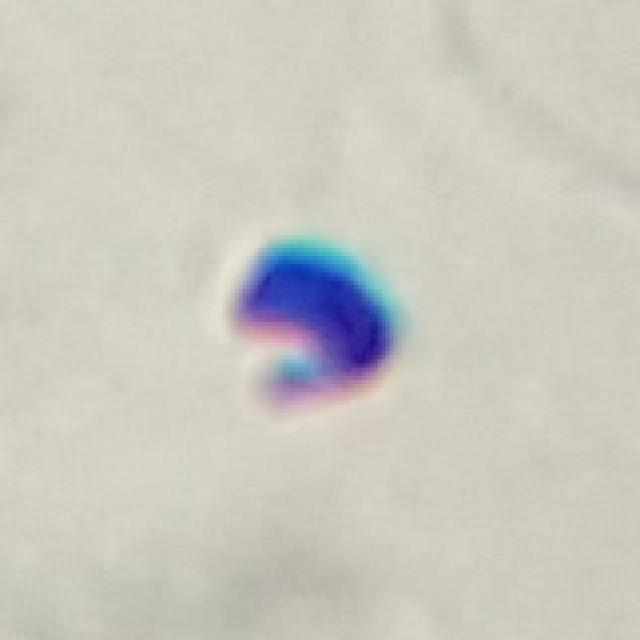non-sperm: (223, 238, 400, 416)
